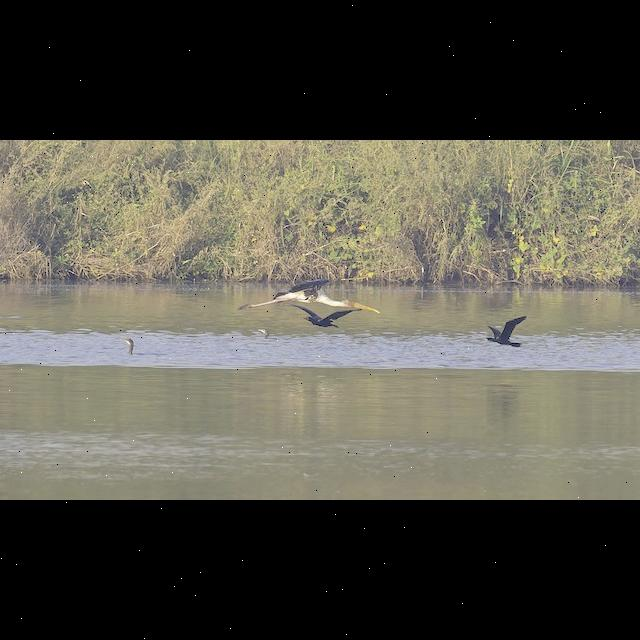cormorant: (482, 311, 530, 355)
